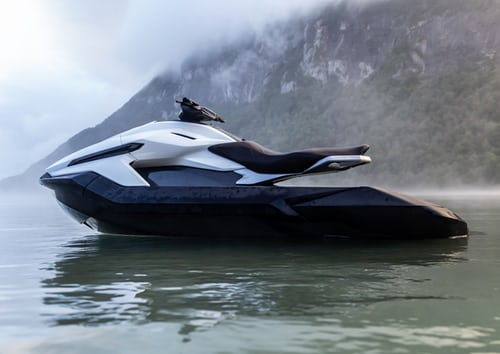yacht: (45, 92, 469, 250)
